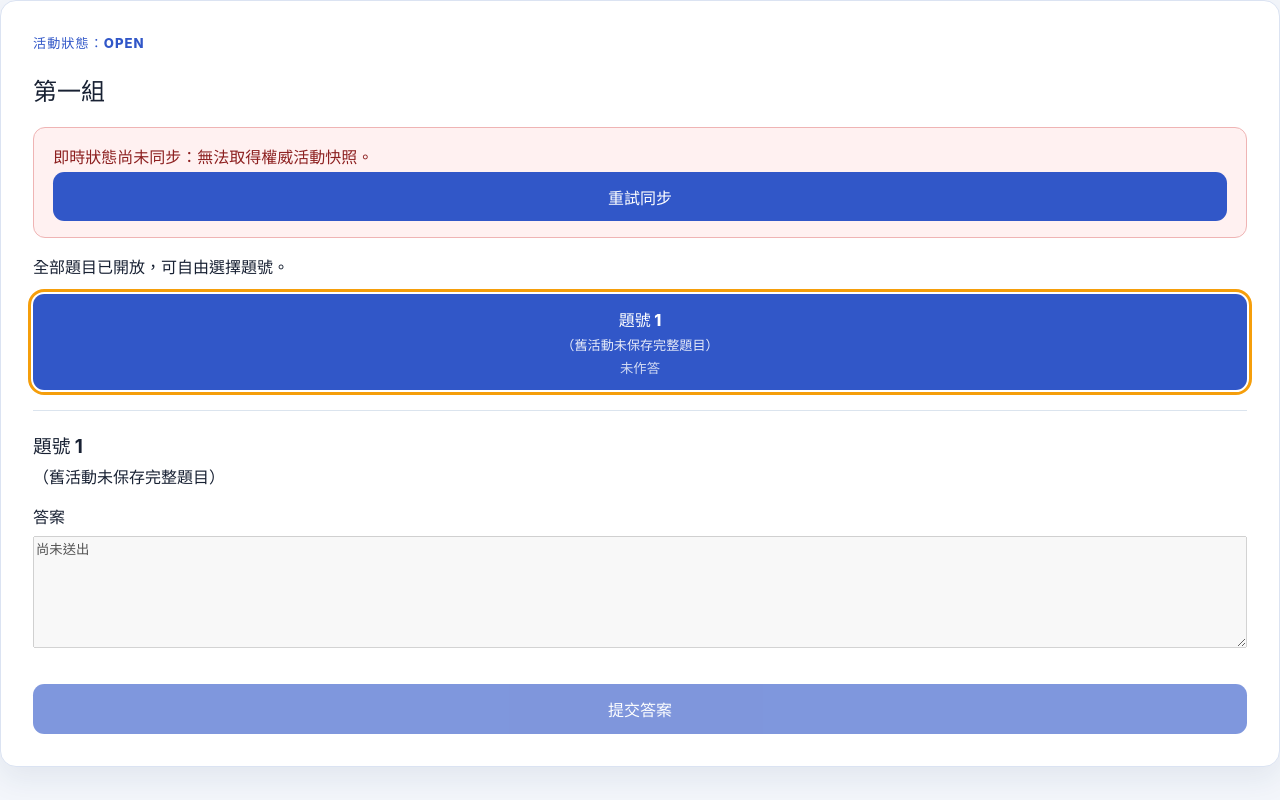
Scenario: 老師 Guided Notes 匯入介面 › 重連 snapshot 失敗時標示尚未同步、停用寫入並可重試
Earlier steps of the test are not shown.
Expected: the message shows "即時狀態尚未同步", [53, 147, 197, 167]
Expected: the button "提交答案" is disabled, [33, 684, 1247, 734]
Click the button "重試同步" at (640, 197), box [53, 172, 1227, 221]
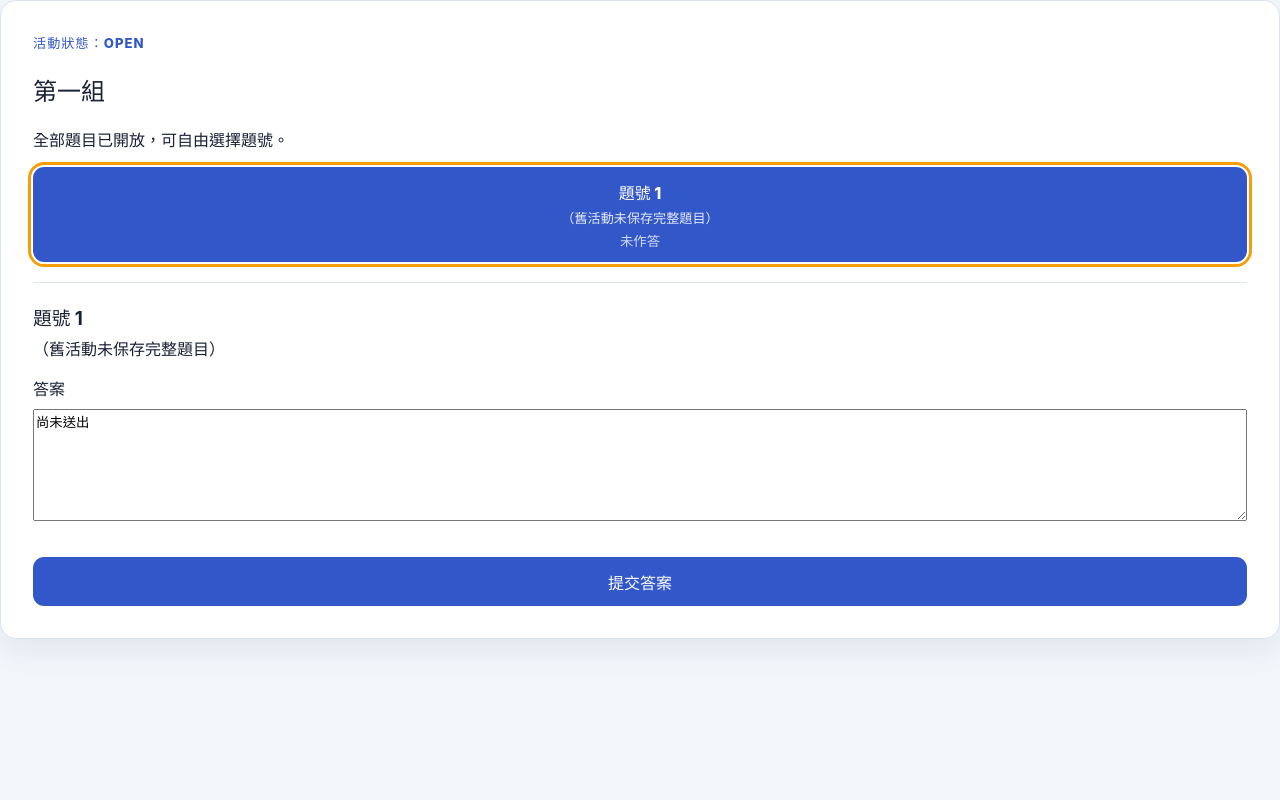
Now the button "提交答案" is enabled, box [33, 557, 1247, 606]
